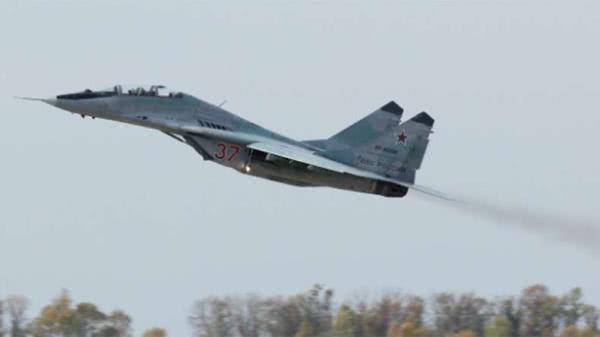airplane: (3, 79, 433, 201)
